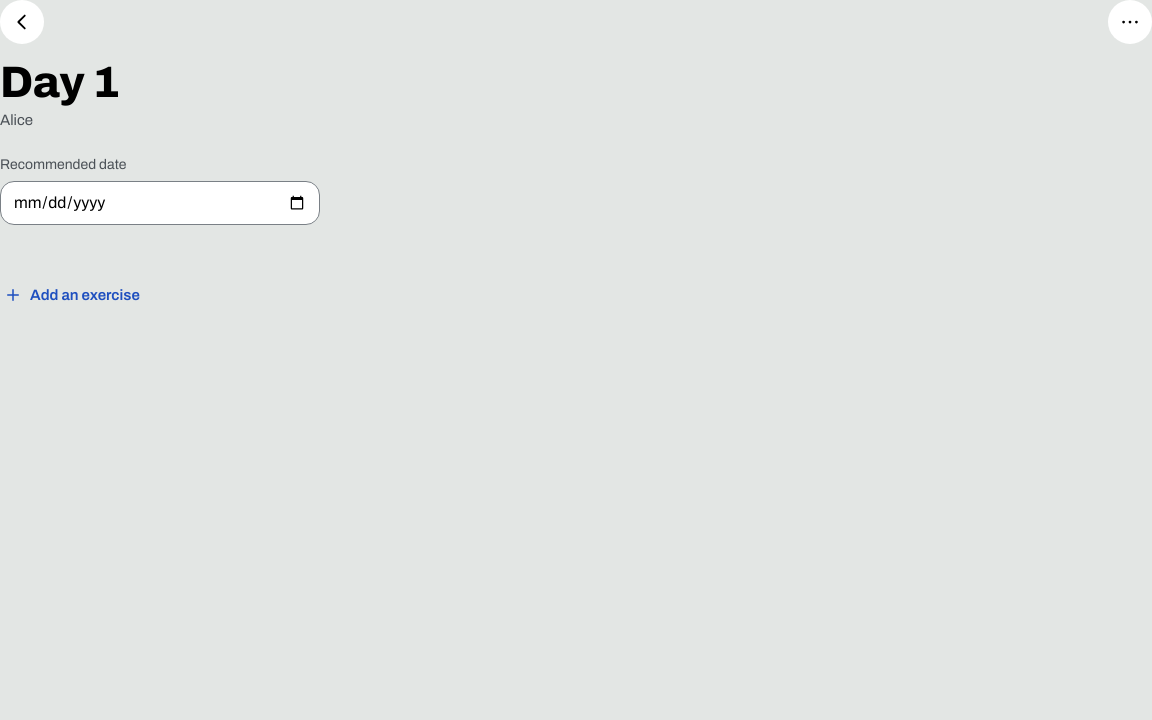
Test case: SessionEditor › leaving it › goes back to the athlete page as it opens — the active block — for a session of that block
The image size is (1152, 720).
Click the button named "Back to the program" at (22, 22), box [0,0,44,44]
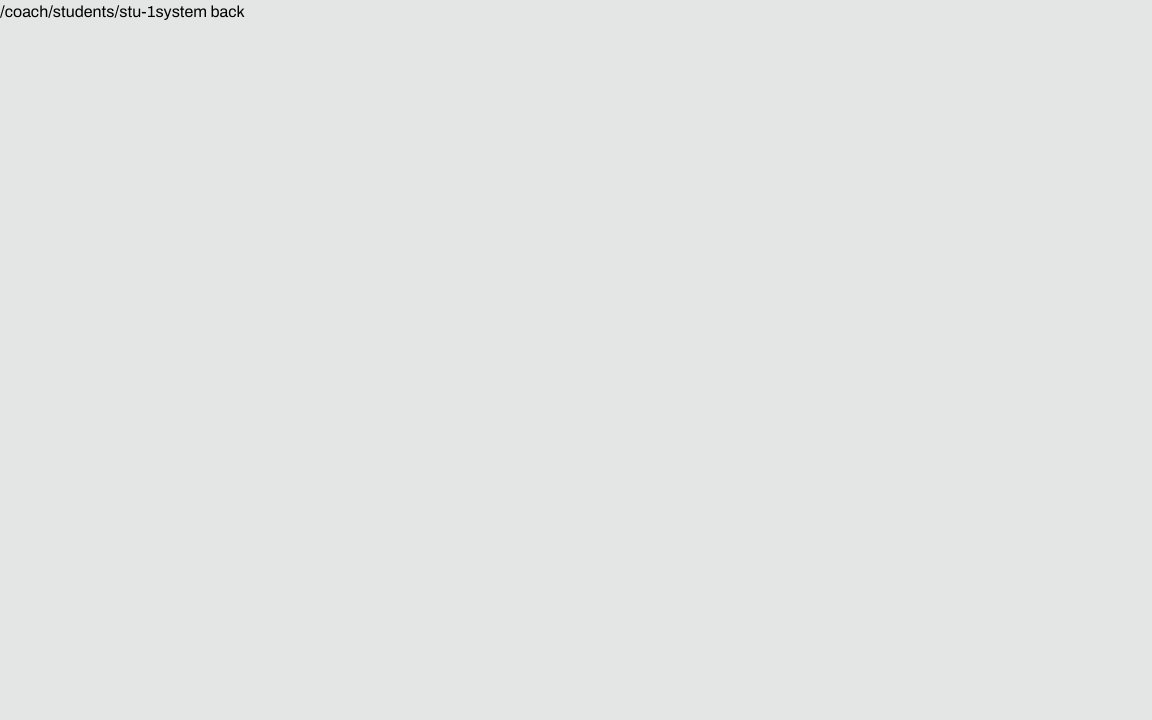
Now the text with test id "where" reads "/coach/students/stu-1", box [0,3,156,20]
